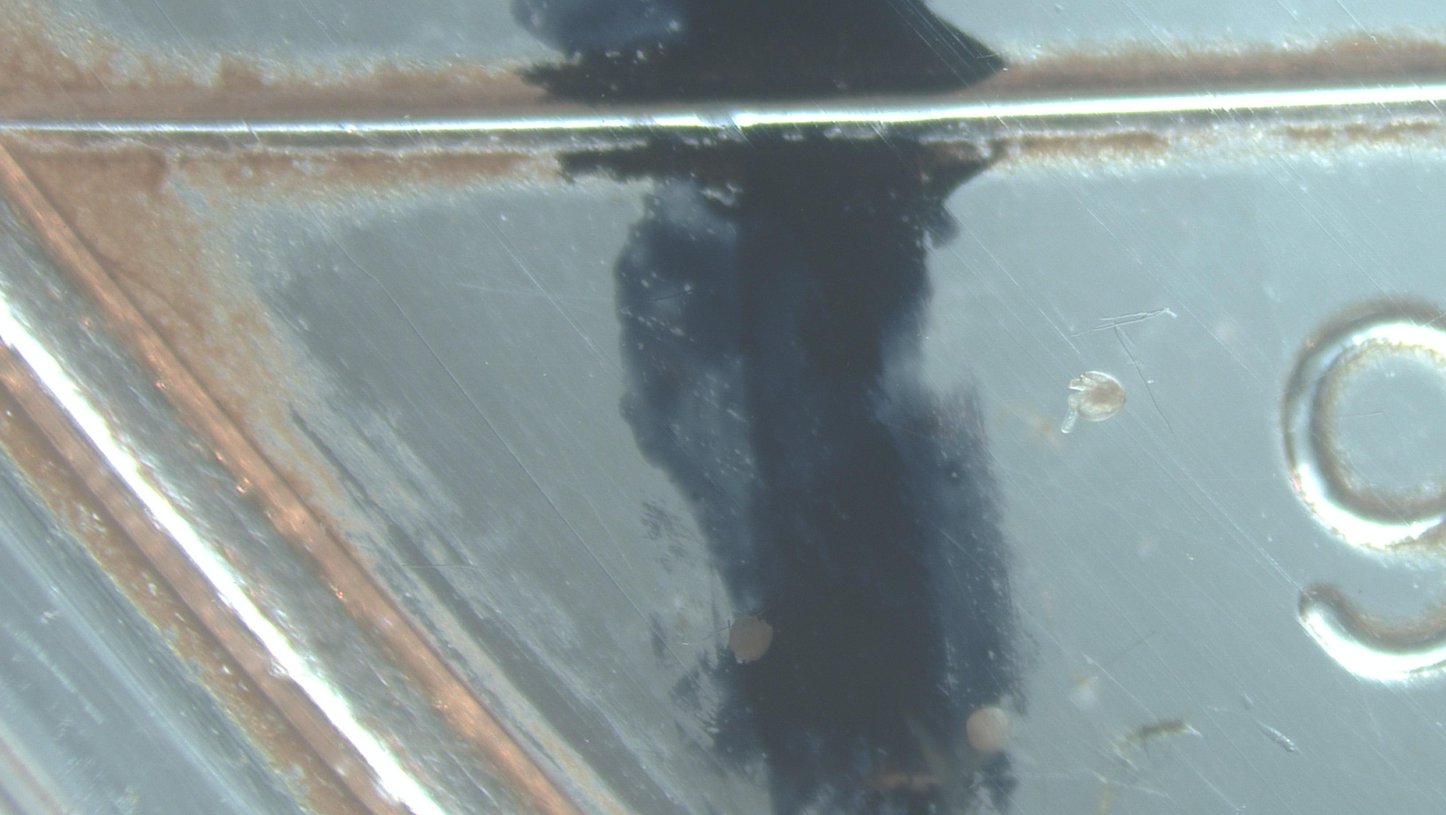live: (1060, 371, 1126, 434), (729, 616, 774, 664), (967, 707, 1010, 755)
